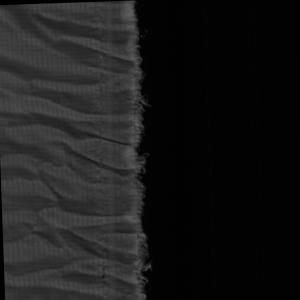Damage: (126, 1, 159, 300)
Wrinkle: (1, 2, 132, 300)
